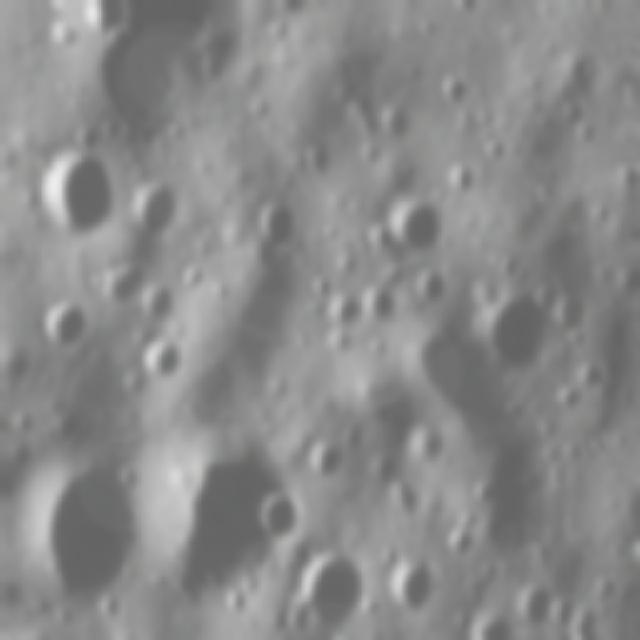crater: (162, 428, 308, 608), (24, 440, 158, 602), (400, 321, 517, 450), (480, 274, 565, 375), (288, 546, 384, 634), (33, 144, 122, 238), (386, 189, 451, 257), (245, 189, 304, 253), (128, 177, 182, 241), (37, 292, 94, 352), (388, 556, 441, 618), (259, 481, 307, 548), (100, 251, 152, 309), (139, 328, 190, 381), (548, 288, 597, 338), (513, 574, 558, 626), (408, 419, 452, 468), (134, 283, 184, 326), (195, 41, 239, 87), (79, 8, 135, 44), (525, 269, 567, 314), (361, 213, 401, 259), (278, 597, 322, 638), (437, 66, 475, 111), (444, 156, 484, 198), (376, 102, 416, 144), (486, 246, 528, 285), (42, 14, 82, 54), (383, 481, 428, 516), (308, 438, 346, 479), (574, 355, 611, 397), (476, 131, 515, 169), (328, 288, 364, 328), (446, 528, 486, 563), (222, 585, 258, 623), (589, 568, 625, 606), (94, 106, 128, 146), (304, 137, 338, 177), (325, 321, 360, 359), (551, 589, 583, 629), (118, 361, 150, 397), (267, 0, 318, 22), (305, 270, 340, 299), (536, 440, 569, 469), (72, 119, 100, 152), (606, 536, 636, 566), (476, 477, 502, 511), (474, 613, 518, 633), (563, 434, 588, 468), (535, 418, 563, 447), (448, 0, 481, 23), (565, 607, 601, 628), (368, 330, 395, 358)
